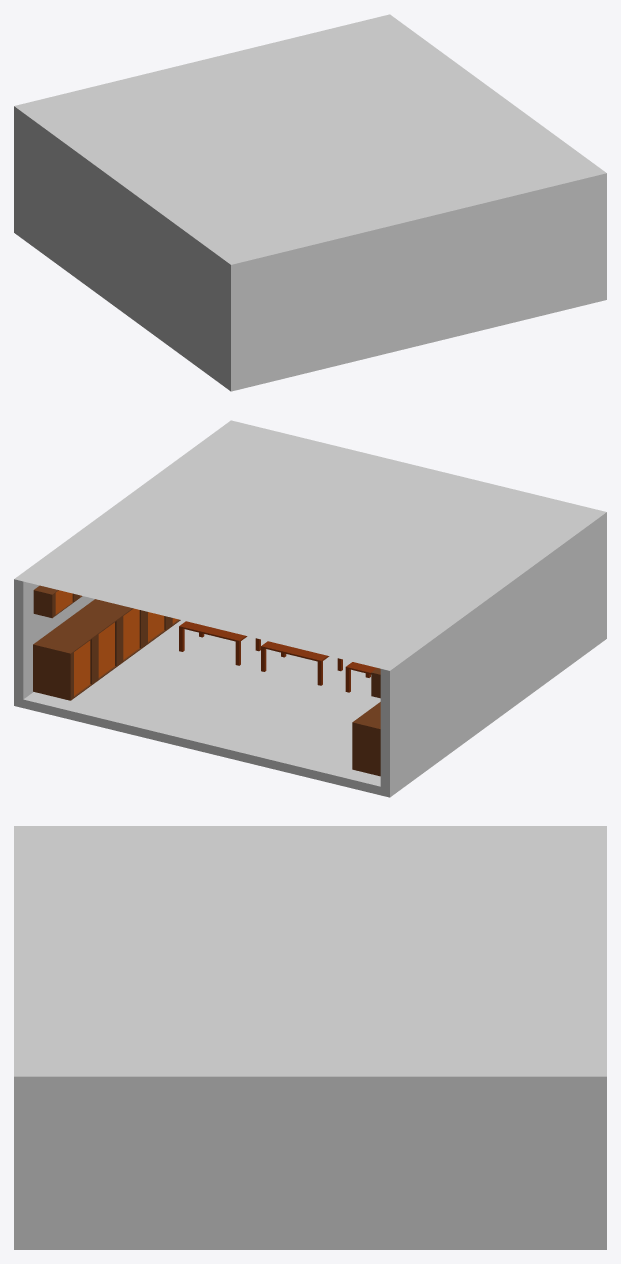
The model's file is LABFinal.fbx.
3 renders of one model, top to bottom at view 1: azimuth 30°, elevation 25°; view 2: azimuth 150°, elevation 25°; view 3: azimuth 270°, elevation 25°, orthographic. The views are drawn at different scales.
Parts seen in each view (by area): view 1: Cube; view 2: Cube, Cube.006, Cube.011, Cube.004, Cube.001, Cube.002; view 3: Cube.
Boxes of the visible parts, box(x1,y1,x2,y2) form: Cube: box(14, 14, 606, 391); Cube: box(14, 420, 606, 797); Cube.006: box(33, 599, 180, 700); Cube.011: box(352, 702, 380, 776); Cube.004: box(33, 585, 82, 618); Cube.001: box(179, 621, 260, 665); Cube.002: box(261, 641, 342, 685); Cube: box(14, 826, 606, 1249).
Size of the model in its own units: 1000 by 322 by 1000.
